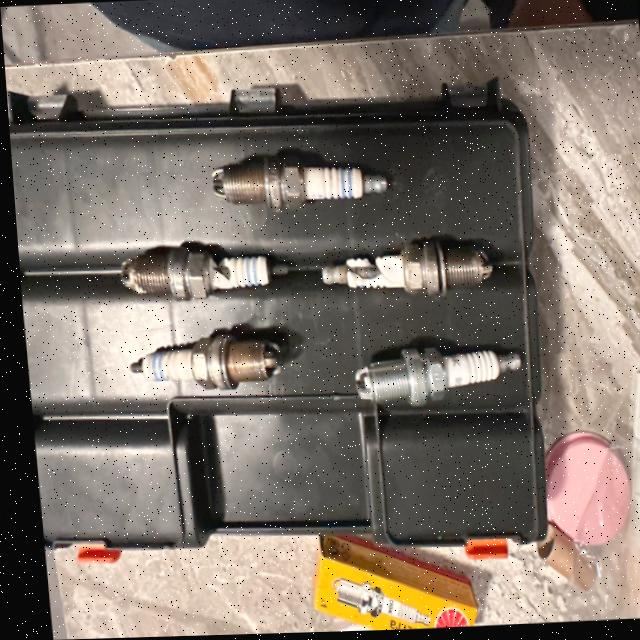damaged_spark-plug: (318, 245, 493, 302), (121, 242, 285, 299)
spark-plug: (345, 344, 515, 409), (206, 165, 386, 208), (120, 336, 277, 385)
